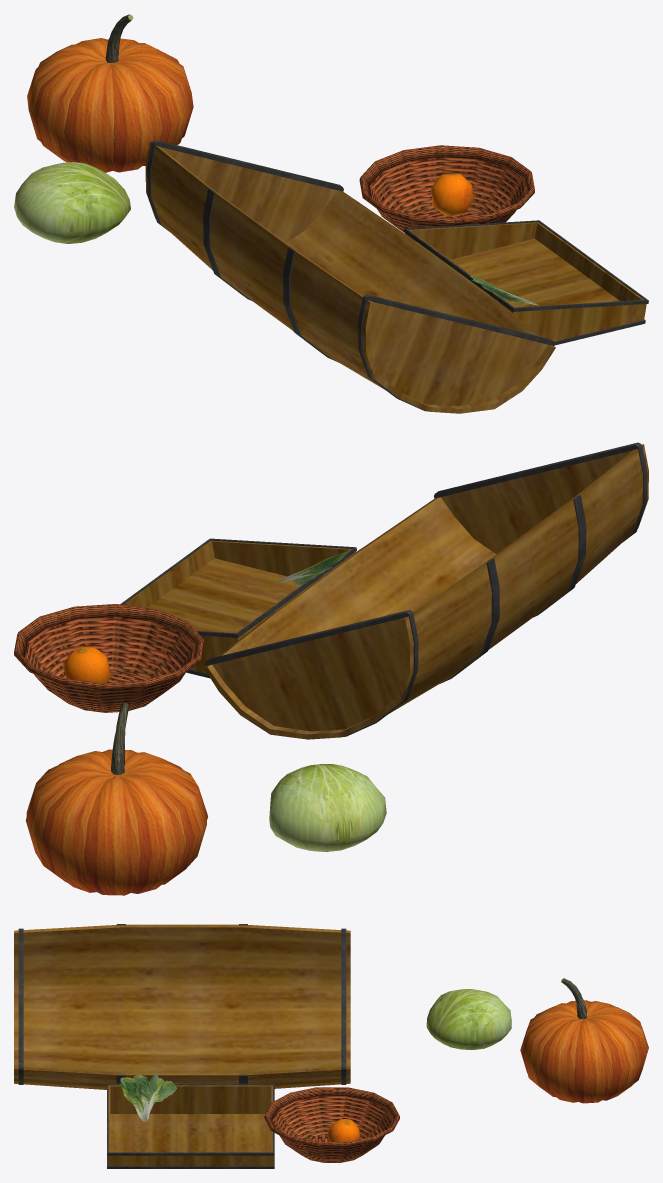
The model's file is stall assets.fbx.
The picture shows the model from 3 angles, top to bottom: view 1: azimuth 30°, elevation 25°; view 2: azimuth 150°, elevation 25°; view 3: azimuth 270°, elevation 25°; orthographic projection. The views are drawn at different scales.
Visible parts, largest first — view 1: Object005, Object003, Object002, Object004, B_Collard_0_004_B_Collard_0_001_0, Sphere083_Material_#1111225813_0; view 2: Object005, Object003, Object004, Object002, B_Collard_0_004_B_Collard_0_001_0, Sphere083_Material_#1111225813_0, B_Vegetable_0_038_B_Vegetable_0_026_0; view 3: Object005, Object002, Object003, Object004, B_Collard_0_004_B_Collard_0_001_0, B_Vegetable_0_038_B_Vegetable_0_026_0, Sphere083_Material_#1111225813_0.
Boxes of the visible parts, x1,y1,x2,y2 form: Object005: [145, 140, 555, 413]; Object003: [27, 14, 193, 172]; Object002: [403, 220, 648, 345]; Object004: [359, 145, 534, 232]; B_Collard_0_004_B_Collard_0_001_0: [14, 162, 130, 243]; Sphere083_Material_#1111225813_0: [431, 173, 473, 216]; Object005: [204, 442, 648, 739]; Object003: [25, 703, 207, 895]; Object004: [14, 604, 204, 712]; Object002: [120, 538, 356, 678]; B_Collard_0_004_B_Collard_0_001_0: [269, 764, 386, 851]; Sphere083_Material_#1111225813_0: [63, 646, 110, 683]; B_Vegetable_0_038_B_Vegetable_0_026_0: [276, 550, 350, 585]; Object005: [14, 924, 350, 1089]; Object002: [107, 1083, 274, 1168]; Object003: [520, 978, 648, 1103]; Object004: [264, 1087, 399, 1162]; B_Collard_0_004_B_Collard_0_001_0: [426, 989, 511, 1049]; B_Vegetable_0_038_B_Vegetable_0_026_0: [120, 1074, 176, 1121]; Sphere083_Material_#1111225813_0: [328, 1118, 359, 1141].
Bounding box in the file's own units: 40.2 × 14.86 × 70.32.
Materials: 1 (1 with a texture image).
